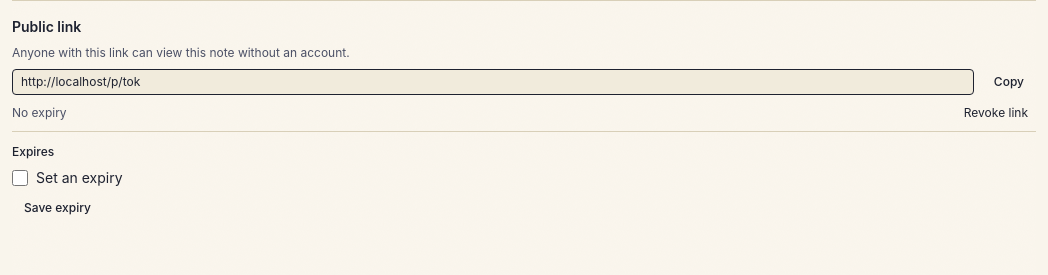
Test case: PublicLinkSection › updates the expiry of an existing link via PATCH (token preserved)
The width and height of the screenshot is (1048, 275).
Expected: the button "Revoke link" is shown, [956, 103, 1036, 123]
Click the checkbox labelled "Set an expiry": {"x": 20, "y": 178} [12, 170, 28, 186]
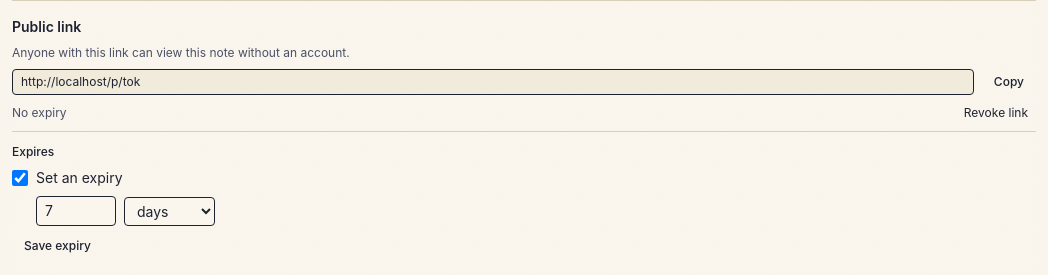
Now the number field is shown, box [36, 196, 116, 226]
Click the button "Save expiry": {"x": 58, "y": 246} [12, 234, 103, 258]
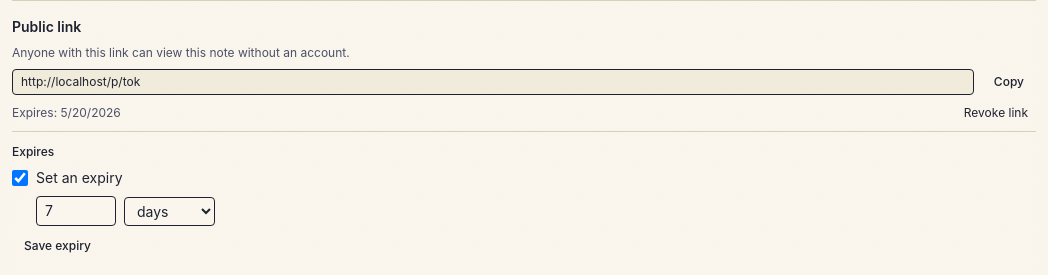
Now the text "No expiry" is gone
